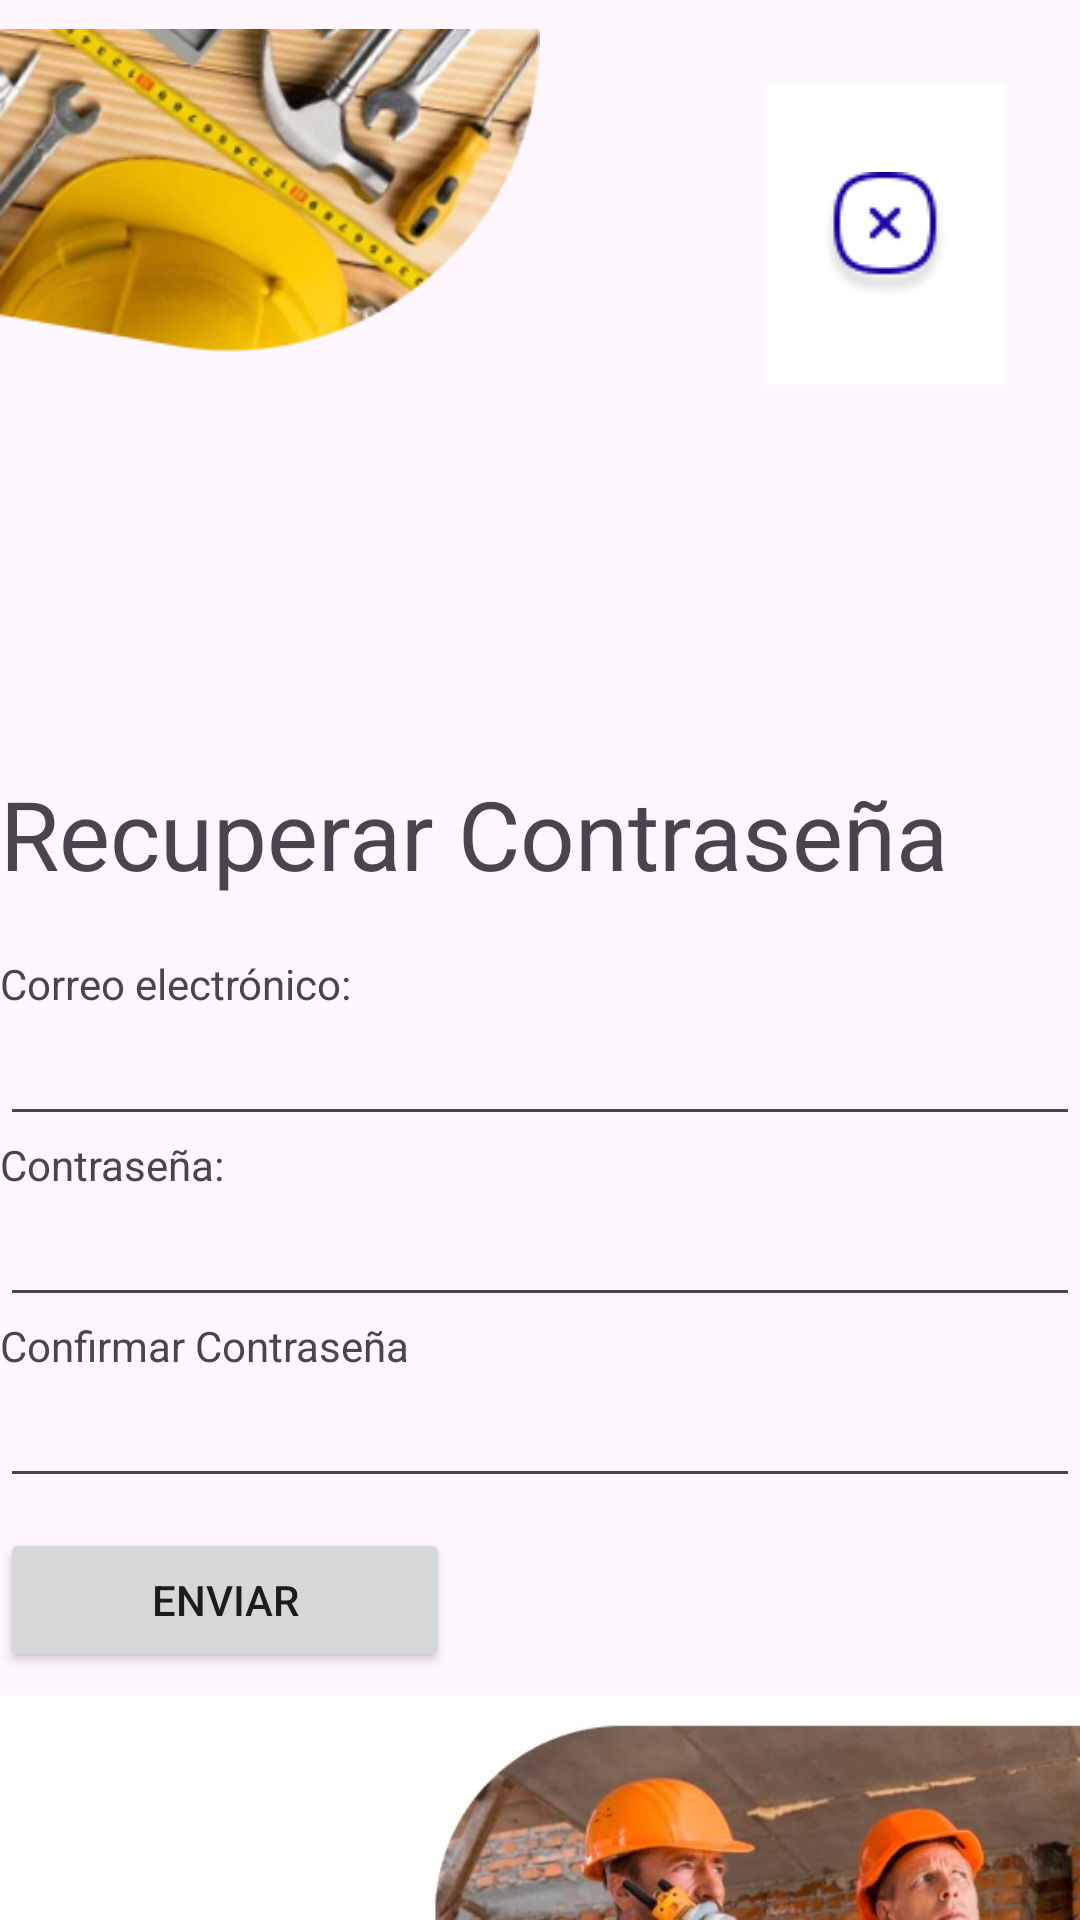

Named icons in this screenshot (1080*1920) and their centers, [x,y]:
cerrar: [885,228]
